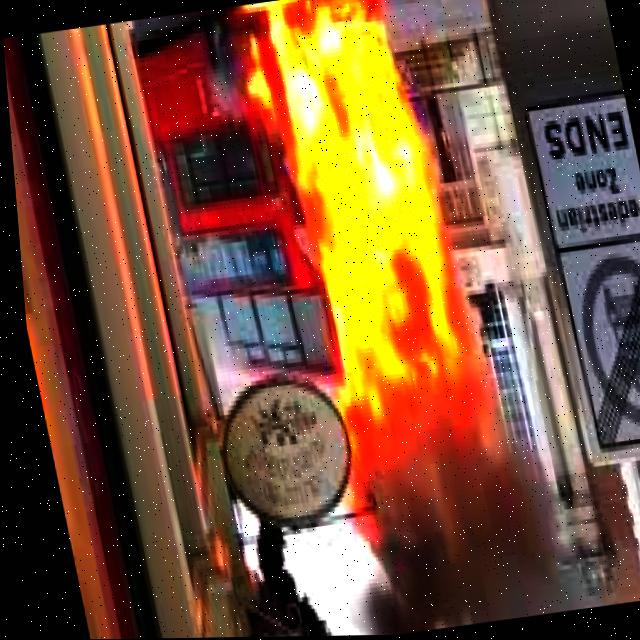Fire: (236, 0, 473, 411)
Smoke: (326, 374, 588, 636)
